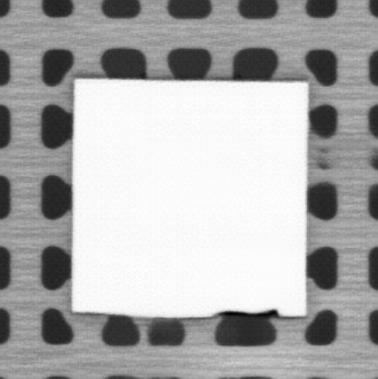DIE_BROKEN: (211, 307, 281, 319)
